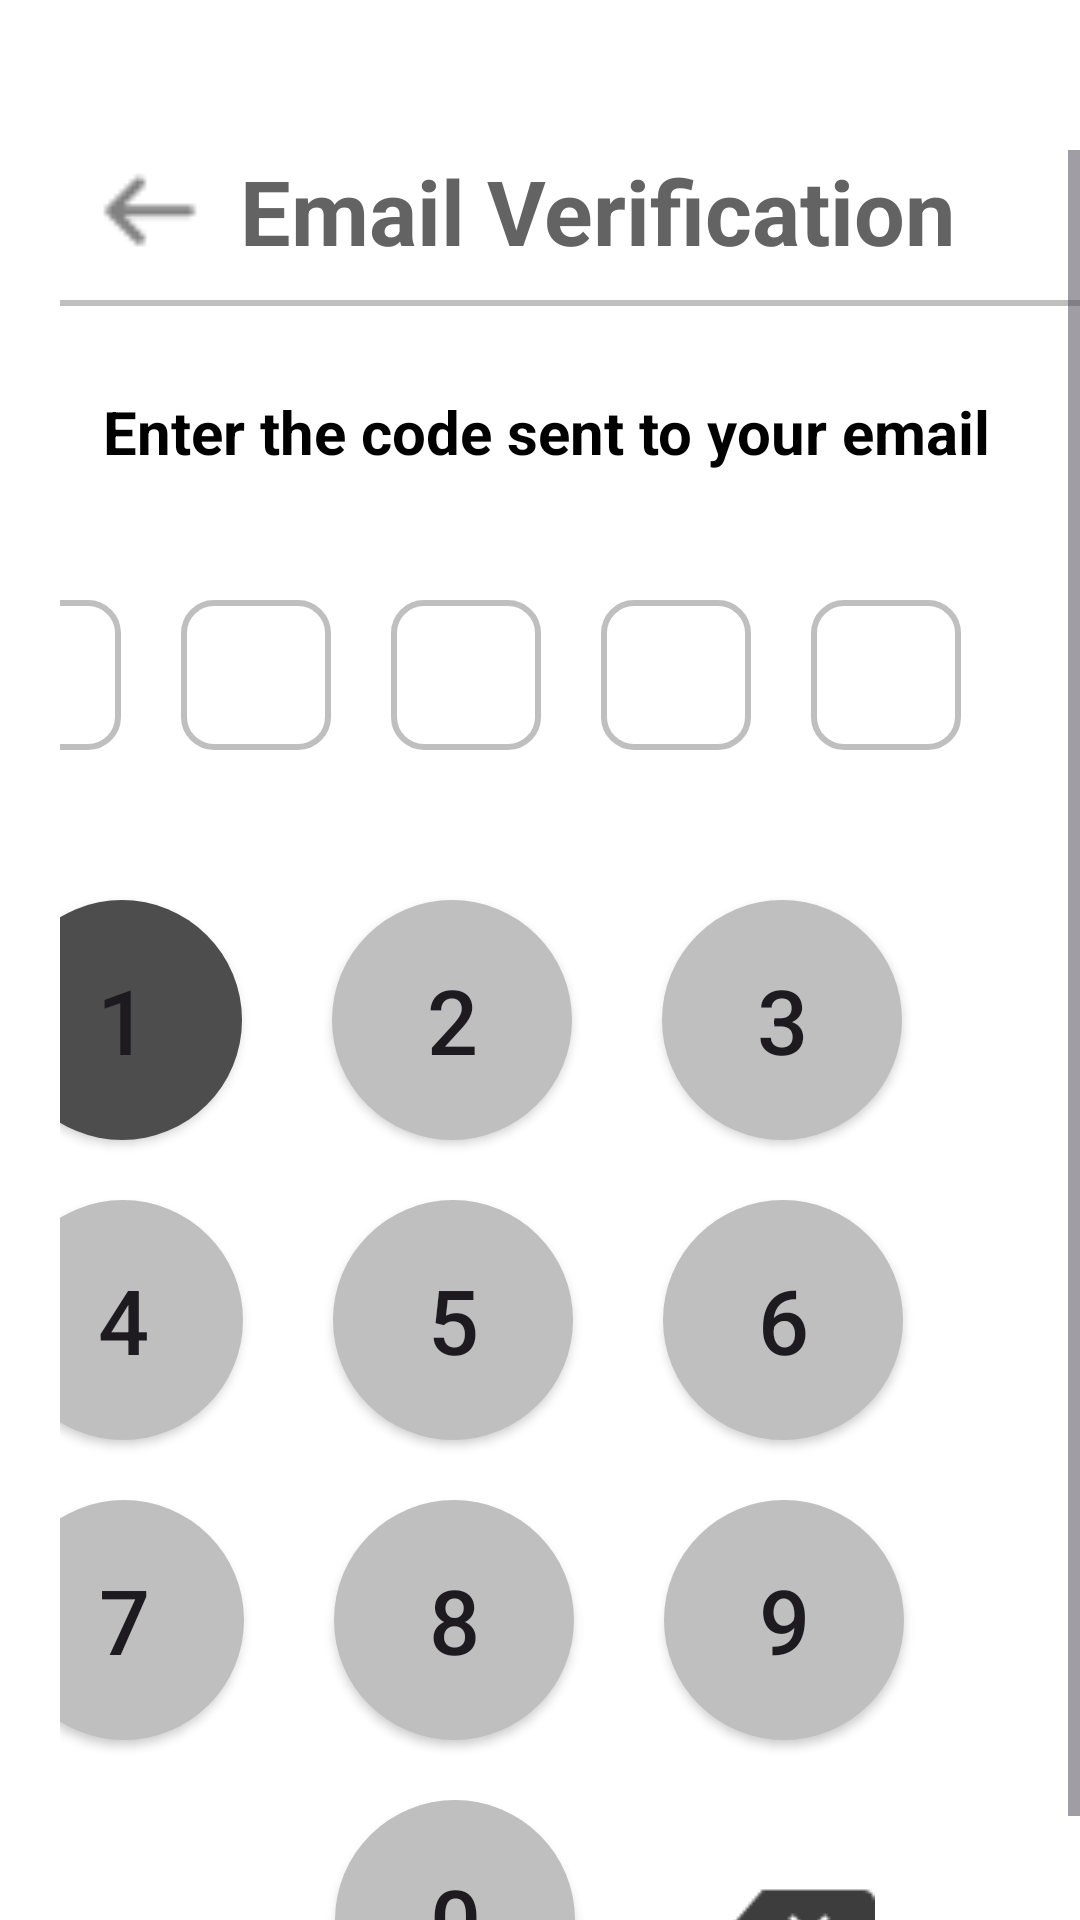

Point at icon controls on the screen. Image size 1080x1920, points as (x=x, y=y).
arrow: (x=150, y=210)
